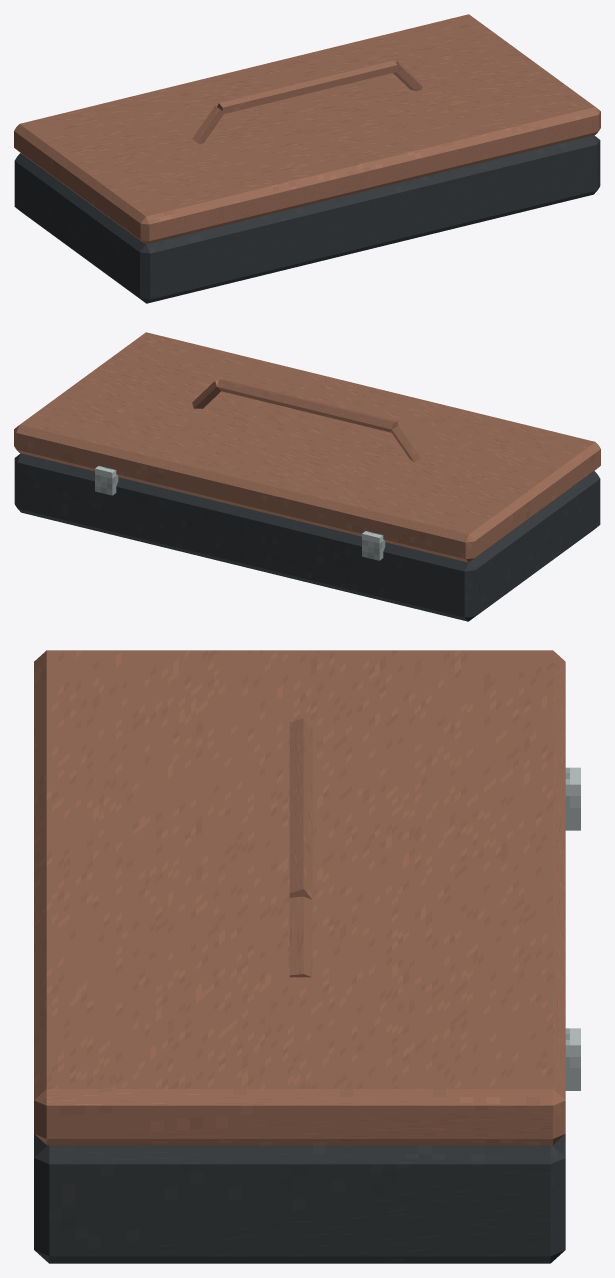
The model's file is toolbox_empty.glb.
The picture shows the model from 3 angles, top to bottom: view 1: azimuth 30°, elevation 25°; view 2: azimuth 150°, elevation 25°; view 3: azimuth 270°, elevation 25°; orthographic projection. The views are drawn at different scales.
Visible parts, largest first — view 1: block_contrasting lid, block_case base, block_carry handle 1, block_carry handle 0, block_carry handle 2; view 2: block_contrasting lid, block_case base, block_carry handle 1, block_latch -1, block_latch 1, block_carry handle 0, block_carry handle 2; view 3: block_contrasting lid, block_case base, block_carry handle 1, block_carry handle 2, block_latch -1, block_latch 1.
Part boxes in pixels (x1,y1,x2,y2): block_contrasting lid: [14, 14, 600, 244]; block_case base: [14, 135, 600, 303]; block_carry handle 1: [217, 60, 397, 113]; block_carry handle 0: [192, 106, 224, 144]; block_carry handle 2: [393, 61, 422, 91]; block_contrasting lid: [14, 332, 600, 562]; block_case base: [14, 453, 600, 621]; block_carry handle 1: [217, 379, 397, 432]; block_latch -1: [362, 531, 385, 560]; block_latch 1: [95, 466, 118, 495]; block_carry handle 0: [391, 424, 422, 462]; block_carry handle 2: [192, 380, 220, 408]; block_contrasting lid: [34, 650, 565, 1145]; block_case base: [34, 1134, 565, 1263]; block_carry handle 1: [289, 718, 312, 899]; block_carry handle 2: [289, 896, 312, 977]; block_latch -1: [565, 767, 580, 830]; block_latch 1: [565, 1028, 580, 1090].
Bounding box in the file's own units: 0.42 × 0.1054 × 0.216.
Materials: 1 (1 with a texture image).
